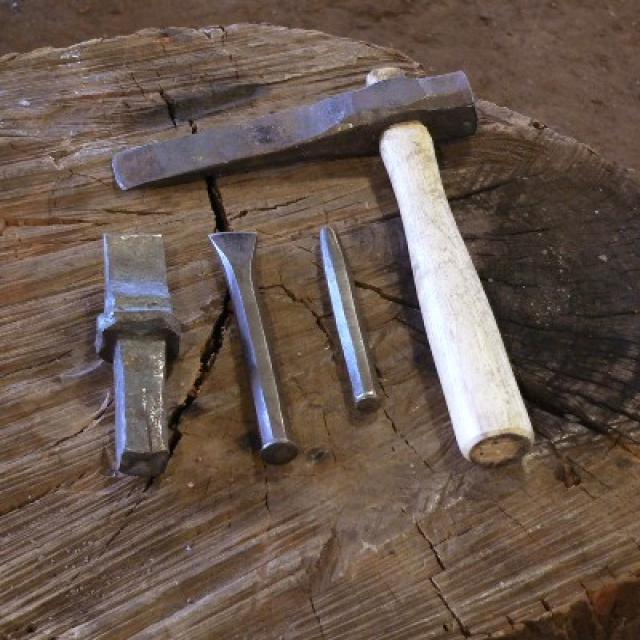hammer: (104, 54, 541, 479)
